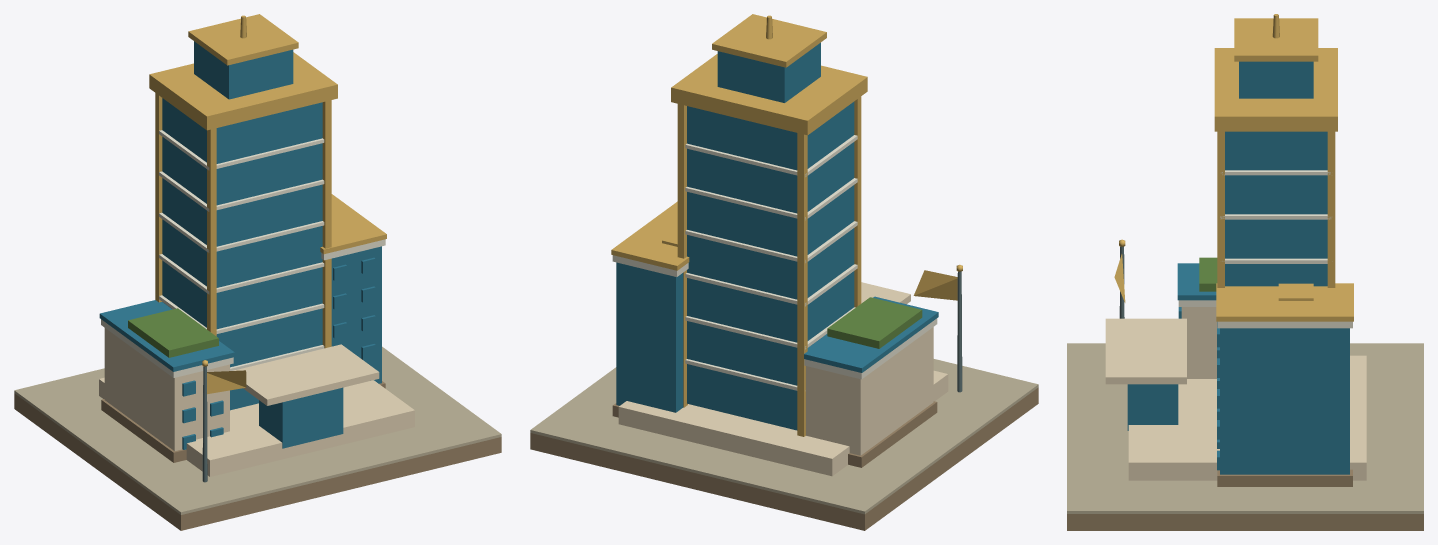
The model's file is club-headquarters-lv5.glb.
3 views of the same model, side by side, from view 1: azimuth 30°, elevation 25°; view 2: azimuth 150°, elevation 25°; view 3: azimuth 270°, elevation 25° (orthographic). The views are drawn at different scales.
Parts seen in each view (by area): view 1: office_tower_glass, foundation_paving, foundation_stoneDark, headquarters_plinth_cream, office_wing_cream, tower_crown_gold, tower_mullions_gold, entrance_canopy_cream, floor_bands_white, secondary_tower_glass, entrance_lobby_glass, penthouse_glass (+10 smaller); view 2: office_tower_glass, foundation_paving, office_wing_cream, secondary_tower_glass, foundation_stoneDark, headquarters_plinth_cream, tower_crown_gold, tower_mullions_gold, floor_bands_white, penthouse_glass, crown_cap_gold, roof_garden_grass (+7 smaller); view 3: foundation_paving, secondary_tower_glass, office_tower_glass, headquarters_plinth_cream, tower_crown_gold, foundation_stoneDark, entrance_canopy_cream, secondary_tower_roof_gold, crown_cap_gold, penthouse_glass, tower_mullions_gold, office_wing_cream (+8 smaller).
Boxes of the visible parts, <box> form: office_tower_glass: <box>162,98,322,410</box>; foundation_paving: <box>14,346,501,514</box>; foundation_stoneDark: <box>14,393,501,530</box>; headquarters_plinth_cream: <box>99,377,414,476</box>; office_wing_cream: <box>104,328,229,451</box>; tower_crown_gold: <box>149,52,337,130</box>; tower_mullions_gold: <box>155,93,331,348</box>; entrance_canopy_cream: <box>233,344,379,405</box>; floor_bands_white: <box>159,130,324,370</box>; secondary_tower_glass: <box>331,246,381,383</box>; entrance_lobby_glass: <box>259,387,343,448</box>; penthouse_glass: <box>194,41,293,99</box>; office_tower_glass: <box>687,101,854,430</box>; foundation_paving: <box>530,359,1038,514</box>; office_wing_cream: <box>806,327,933,455</box>; secondary_tower_glass: <box>616,262,683,412</box>; foundation_stoneDark: <box>530,387,1038,530</box>; headquarters_plinth_cream: <box>618,370,948,476</box>; tower_crown_gold: <box>671,54,867,135</box>; tower_mullions_gold: <box>677,96,861,436</box>; floor_bands_white: <box>685,135,857,390</box>; penthouse_glass: <box>717,42,820,102</box>; crown_cap_gold: <box>712,14,826,67</box>; roof_garden_grass: <box>827,297,922,348</box>; foundation_paving: <box>1067,343,1423,513</box>; secondary_tower_glass: <box>1220,328,1349,474</box>; office_tower_glass: <box>1225,131,1327,286</box>; headquarters_plinth_cream: <box>1128,355,1366,480</box>; tower_crown_gold: <box>1214,48,1337,131</box>; foundation_stoneDark: <box>1067,514,1423,530</box>; entrance_canopy_cream: <box>1105,318,1186,384</box>; secondary_tower_roof_gold: <box>1216,283,1353,321</box>; crown_cap_gold: <box>1234,18,1318,61</box>; penthouse_glass: <box>1239,61,1313,98</box>; tower_mullions_gold: <box>1217,131,1335,287</box>; office_wing_cream: <box>1181,307,1216,378</box>.
Bounding box in the file's own units: 1 × 1.2 × 0.9.
